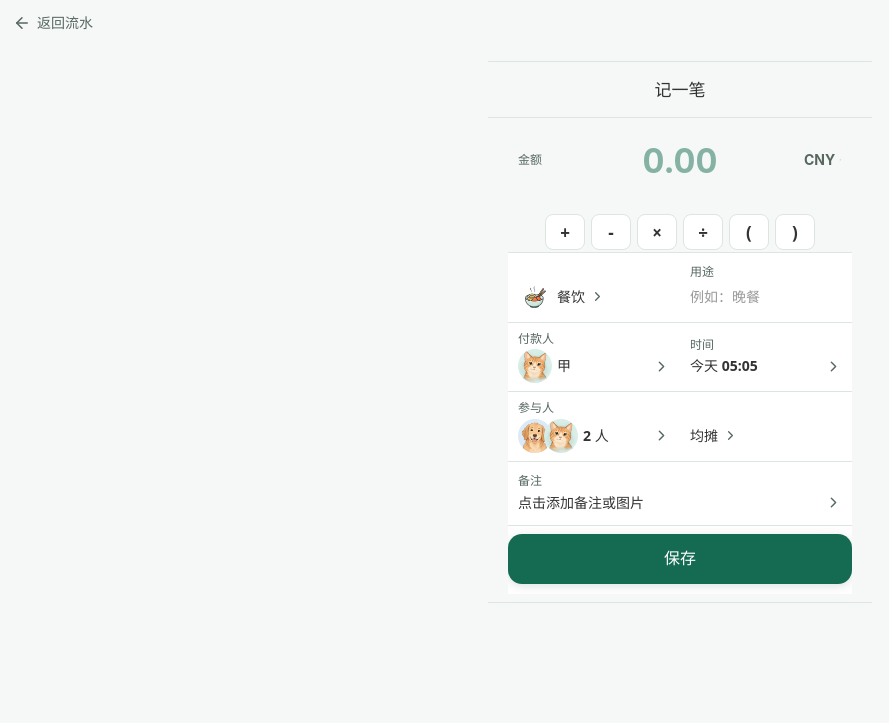
Scenario: Expense 参考汇率 › 主表单修改时间后清除过期参考汇率
Step 1. Click the button with aria-label "币种：" → [823, 160], box [794,138,852,182]
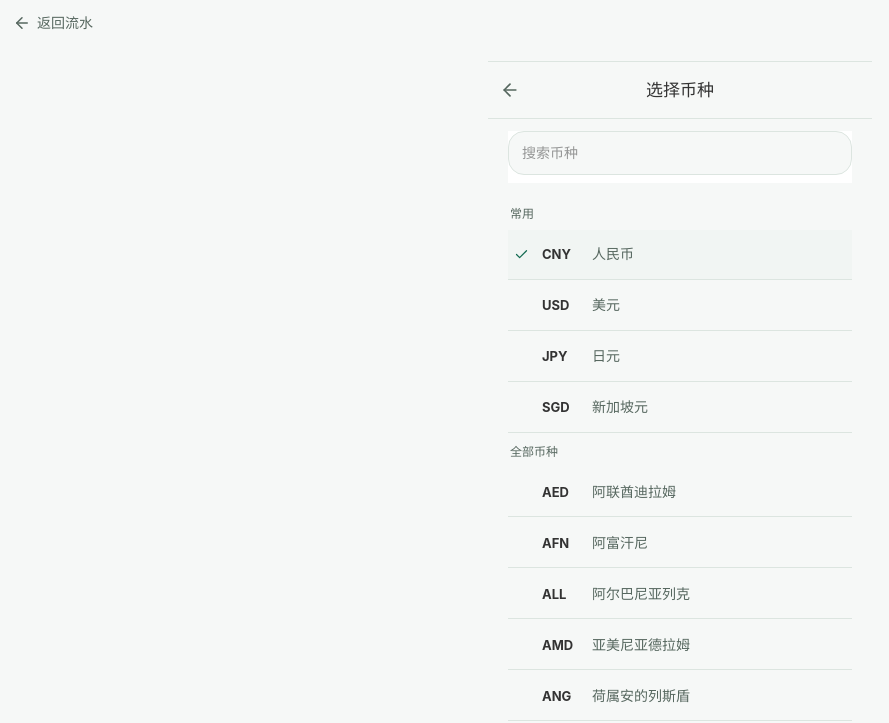
Step 2. Click the button "JPY 日元" → [555, 356], box [508,332,852,382]
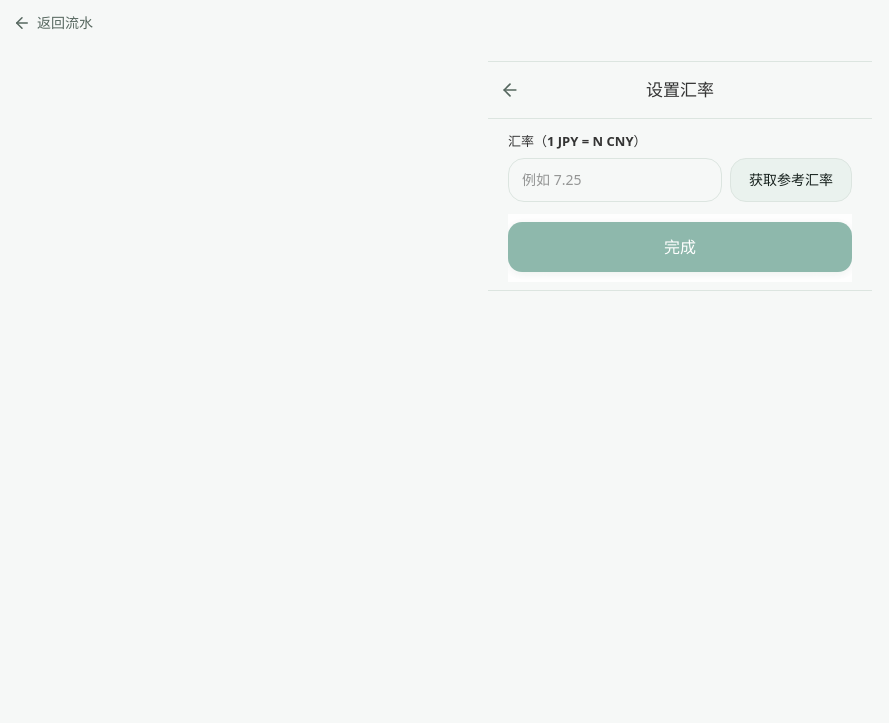
Step 3. Click the button "获取参考汇率" → [791, 180], box [730,158,852,202]
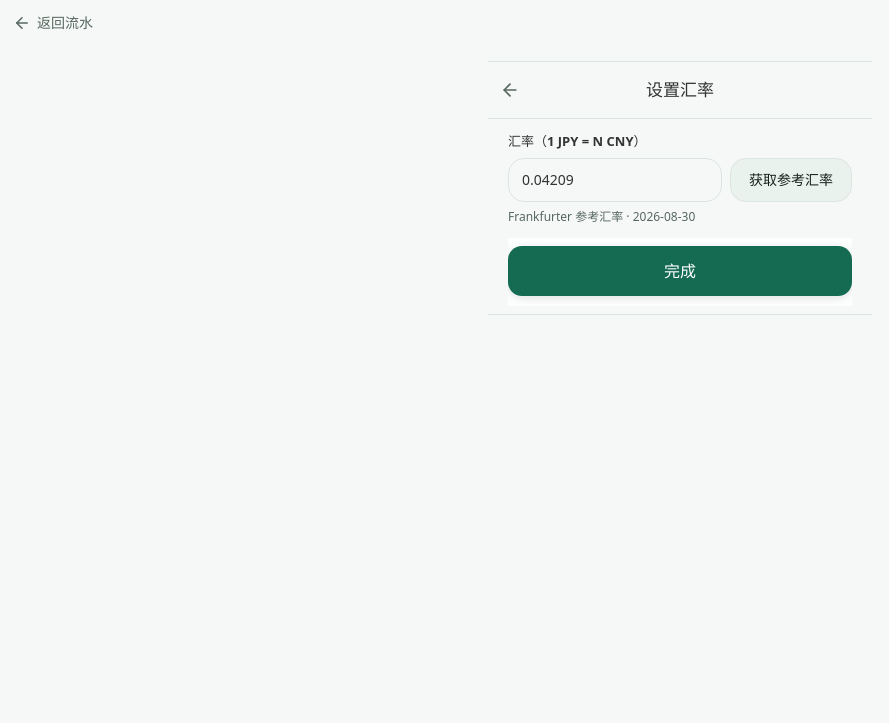
Now the text "Frankfurter 参考汇率 · 2026-08-30" is shown, box [508,208,695,225]
Step 4. Click the button "完成" → [680, 271], box [508,246,852,296]
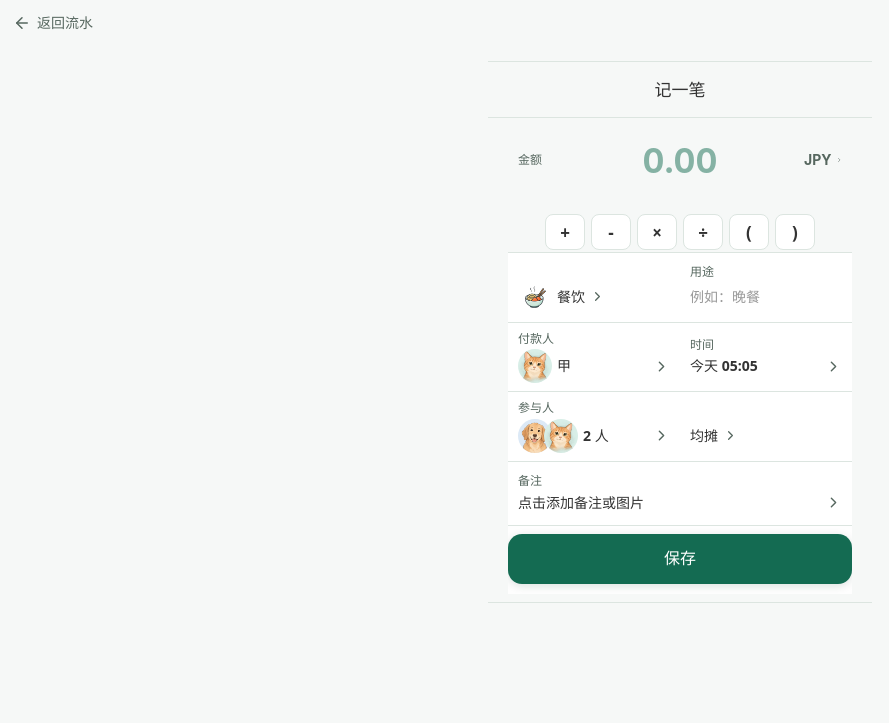
Step 5. Replace the text in the field labelled "时间" with "2026-09-08T12:30" → [766, 356], box [680,322,852,391]
Step 6. Type "100" into the field named "金额" → [680, 160], box [570,133,790,187]
Step 7. Type "时间变化" into the field labelled "用途" → [766, 297], box [690,283,842,311]
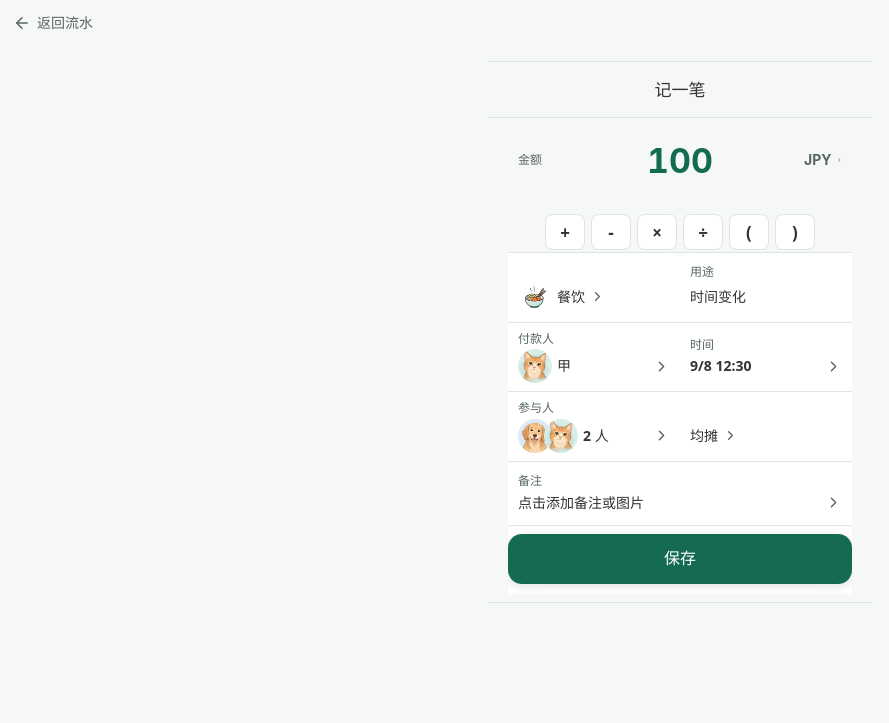
Step 8. Click the button "保存" → [680, 559], box [508,534,852,584]
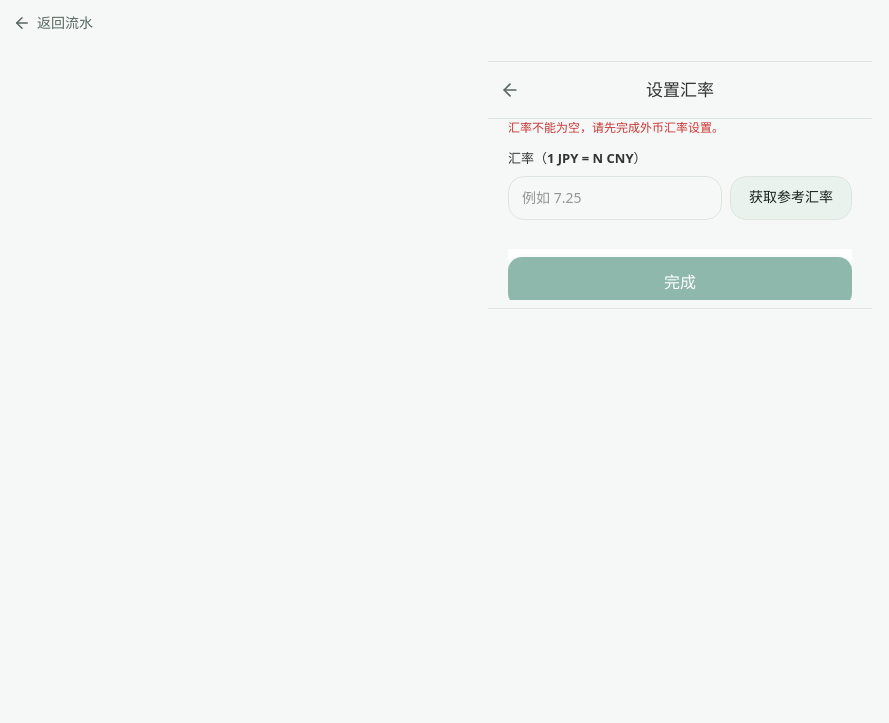
Expected: the text "Frankfurter 参考汇率" is not shown
Now the element "设置汇率" is shown, box [488,61,872,308]
Now the field with placeholder "例如 7.25" is empty, box [508,176,722,220]
